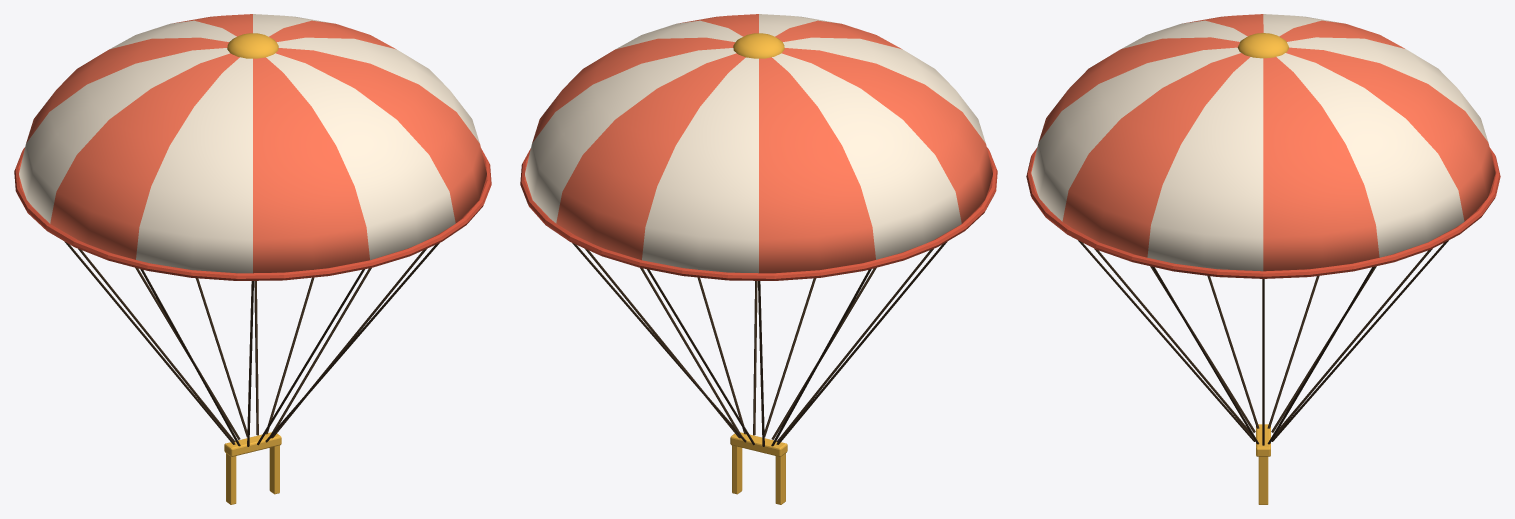
File: parachute.glb
3 renders of one model, left to right at view 1: azimuth 30°, elevation 25°; view 2: azimuth 150°, elevation 25°; view 3: azimuth 270°, elevation 25°, orthographic.
Visible parts, largest first — view 1: canopy, skirt, apex, harness, cord10, cord6, cord5, cord7, cord9, cord0, cord11, strap-1; view 2: canopy, skirt, apex, harness, cord2, cord6, cord7, cord5, cord3, cord0, cord1, strap-1; view 3: canopy, skirt, apex, cord2, cord10, cord3, cord9, cord1, cord11, strap1.
Part boxes in pixels (x1=…): canopy: x1=19, y1=14, x2=486, y2=273; skirt: x1=14, y1=147, x2=491, y2=280; apex: x1=227, y1=33, x2=278, y2=58; harness: x1=224, y1=432, x2=281, y2=456; cord10: x1=265, y1=243, x2=439, y2=442; cord6: x1=64, y1=241, x2=235, y2=444; cord5: x1=78, y1=249, x2=235, y2=442; cord7: x1=140, y1=269, x2=240, y2=446; cord9: x1=257, y1=269, x2=364, y2=445; cord0: x1=270, y1=268, x2=371, y2=434; cord11: x1=271, y1=248, x2=427, y2=438; strap-1: x1=226, y1=453, x2=236, y2=504; canopy: x1=525, y1=14, x2=992, y2=273; skirt: x1=520, y1=147, x2=997, y2=280; apex: x1=733, y1=33, x2=784, y2=58; harness: x1=730, y1=432, x2=787, y2=456; cord2: x1=572, y1=243, x2=746, y2=442; cord6: x1=776, y1=241, x2=947, y2=444; cord7: x1=776, y1=249, x2=933, y2=442; cord5: x1=771, y1=269, x2=871, y2=446; cord3: x1=647, y1=269, x2=754, y2=445; cord0: x1=640, y1=268, x2=741, y2=434; cord1: x1=584, y1=248, x2=740, y2=438; strap-1: x1=775, y1=453, x2=785, y2=504; canopy: x1=1031, y1=14, x2=1495, y2=271; skirt: x1=1026, y1=147, x2=1500, y2=278; apex: x1=1237, y1=33, x2=1289, y2=58; cord2: x1=1271, y1=240, x2=1448, y2=441; cord10: x1=1078, y1=240, x2=1255, y2=441; cord3: x1=1275, y1=249, x2=1432, y2=435; cord9: x1=1094, y1=249, x2=1251, y2=435; cord1: x1=1267, y1=266, x2=1374, y2=444; cord11: x1=1152, y1=266, x2=1259, y2=444; strap1: x1=1258, y1=456, x2=1268, y2=504.
Size of the model in its own units: 5.7 by 6.05 by 5.7.
